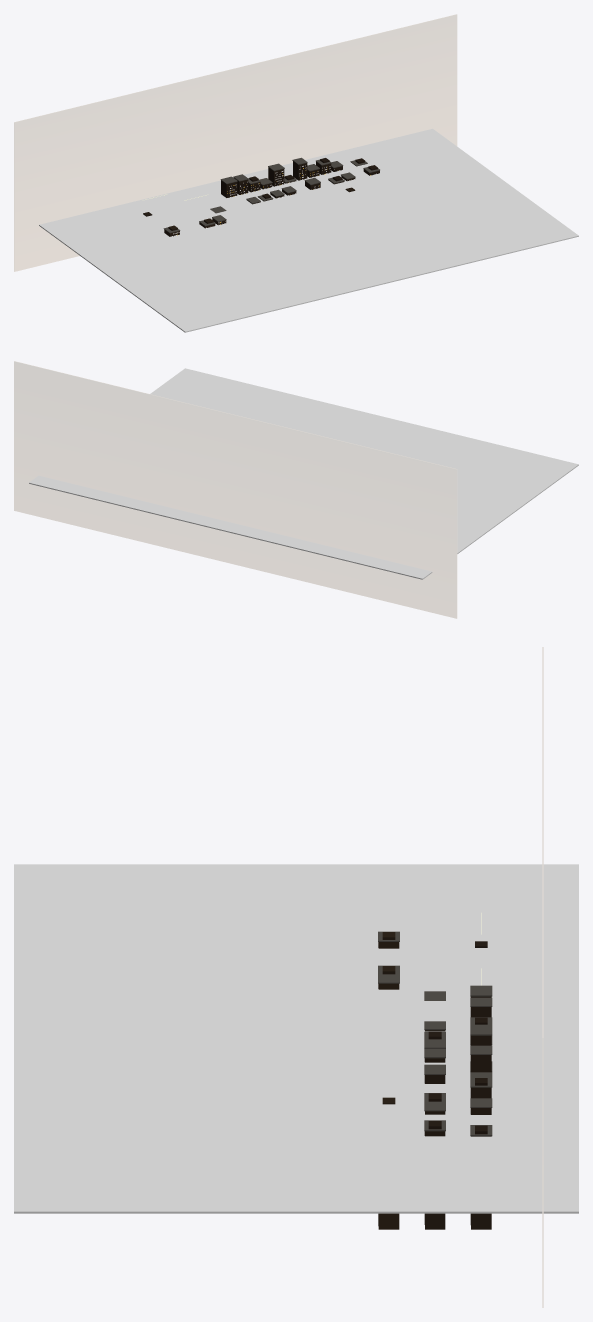
File: oaknight.glb
3 renders of one model, top to bottom at view 1: azimuth 30°, elevation 25°; view 2: azimuth 150°, elevation 25°; view 3: azimuth 270°, elevation 25°, orthographic. The views are drawn at different scales.
Visible parts, largest first — view 1: Ground contact / transparent shadow receiver.077, Sky gradient / editable material.077, World / terrain and architecture.040; view 2: Sky gradient / editable material.077, Ground contact / transparent shadow receiver.077; view 3: Ground contact / transparent shadow receiver.077, World / terrain and architecture.040, Sky gradient / editable material.077.
Part boxes in pixels (x1,y1,x2,y2): Ground contact / transparent shadow receiver.077: (39,128,578,332); Sky gradient / editable material.077: (14,14,457,271); World / terrain and architecture.040: (143,157,379,236); Sky gradient / editable material.077: (14,361,457,618); Ground contact / transparent shadow receiver.077: (29,368,578,579); Ground contact / transparent shadow receiver.077: (14,864,578,1213); World / terrain and architecture.040: (378,931,492,1229); Sky gradient / editable material.077: (542,647,543,1307).
Bounding box in the file's own units: 180 × 62 × 110.
